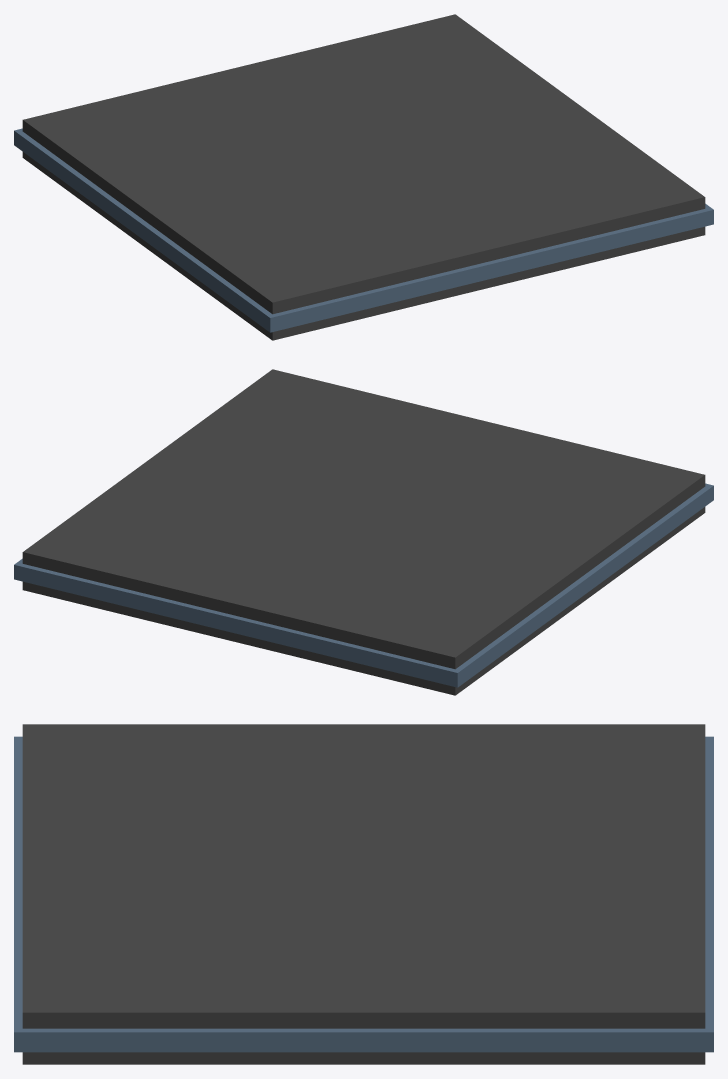
File: Blockout_Plattform_Small_Mid_01.FBX
3 views of the same model, one above another, from view 1: azimuth 30°, elevation 25°; view 2: azimuth 150°, elevation 25°; view 3: azimuth 270°, elevation 25° (orthographic). The views are drawn at different scales.
Visible parts, largest first — view 1: Blockout_Plattform_Small_Mid_01; view 2: Blockout_Plattform_Small_Mid_01; view 3: Blockout_Plattform_Small_Mid_01.
Part boxes in pixels (x1=…): Blockout_Plattform_Small_Mid_01: x1=14, y1=14, x2=713, y2=340; Blockout_Plattform_Small_Mid_01: x1=14, y1=369, x2=713, y2=695; Blockout_Plattform_Small_Mid_01: x1=14, y1=724, x2=713, y2=1064.
Bounding box in the file's own units: 805 × 66.04 × 805.
